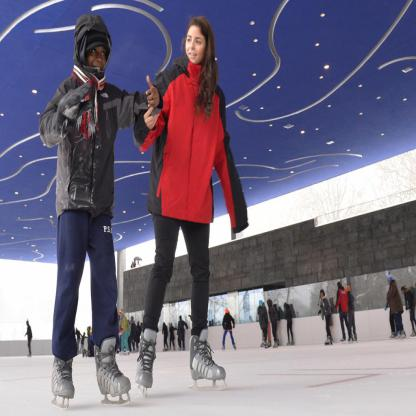face: (187, 27, 206, 65), (87, 41, 107, 74), (321, 292, 324, 297), (121, 313, 124, 318), (403, 290, 406, 293), (389, 279, 391, 283), (132, 318, 133, 321)
